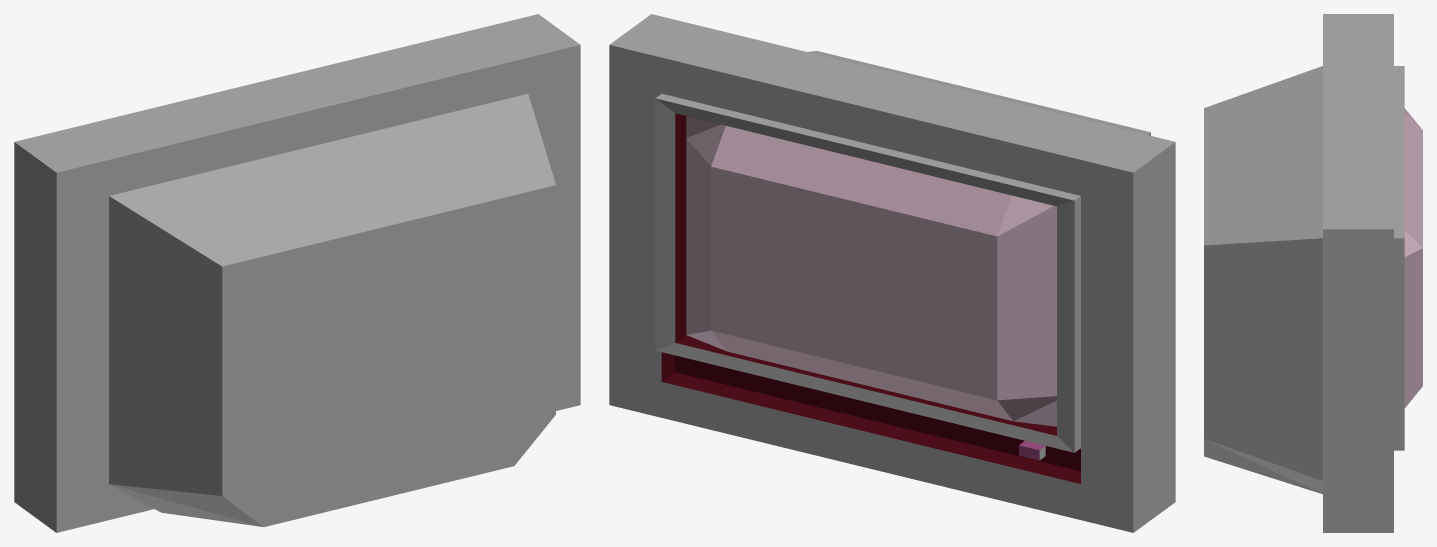
3 views of the same model, side by side, from view 1: azimuth 30°, elevation 25°; view 2: azimuth 150°, elevation 25°; view 3: azimuth 270°, elevation 25° (orthographic). The views are drawn at different scales.
Visible parts, largest first — view 1: pCube12; view 2: pCube12; view 3: pCube12.
Boxes of the visible parts, x1,y1,x2,y2 form: pCube12: (14, 14, 580, 532); pCube12: (609, 14, 1175, 532); pCube12: (1204, 14, 1422, 532).
Bounding box in the file's own units: 3.79 × 2.52 × 1.63.
